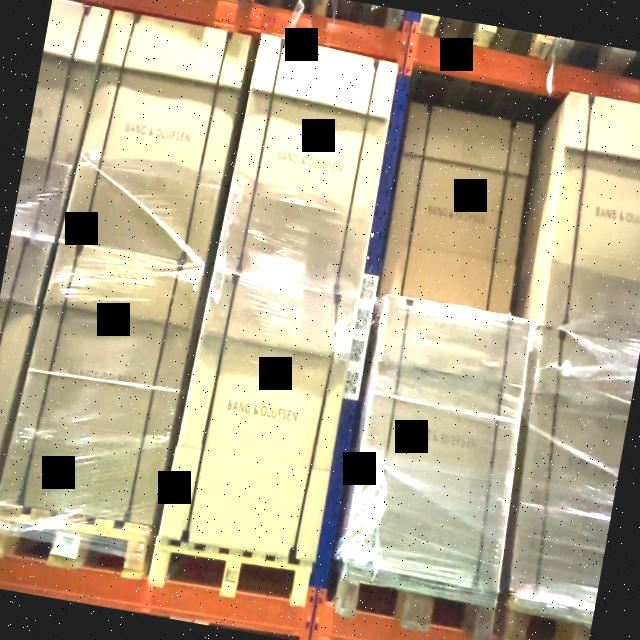box: (159, 266, 359, 563), (0, 239, 203, 527), (343, 295, 533, 594), (60, 11, 252, 266), (214, 34, 398, 294), (380, 103, 535, 315)
